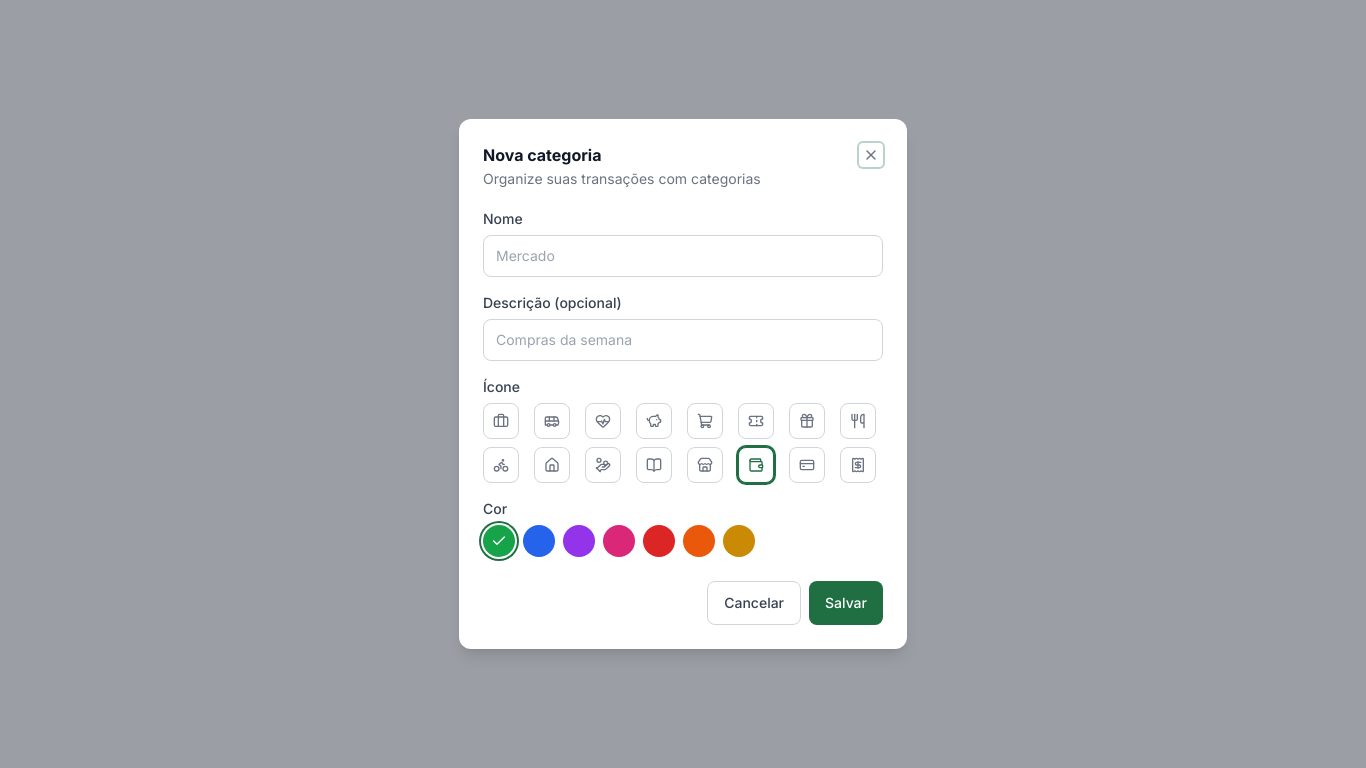
Test: CategoryDialog › creates a category and closes
Type "Transporte" into the field labelled "Nome" at (683, 256), box [483, 235, 883, 277]
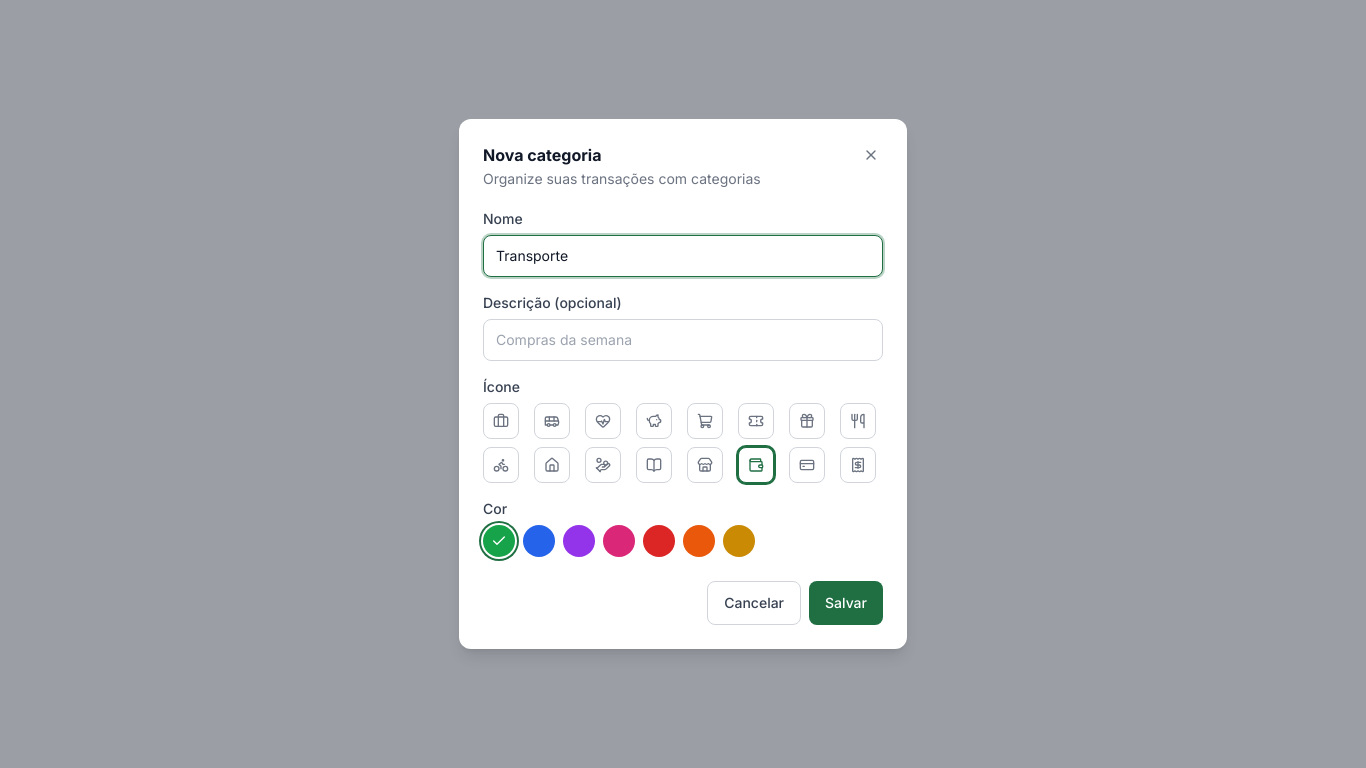
Click the radio button named "Ônibus" at (552, 421), box [534, 403, 570, 439]
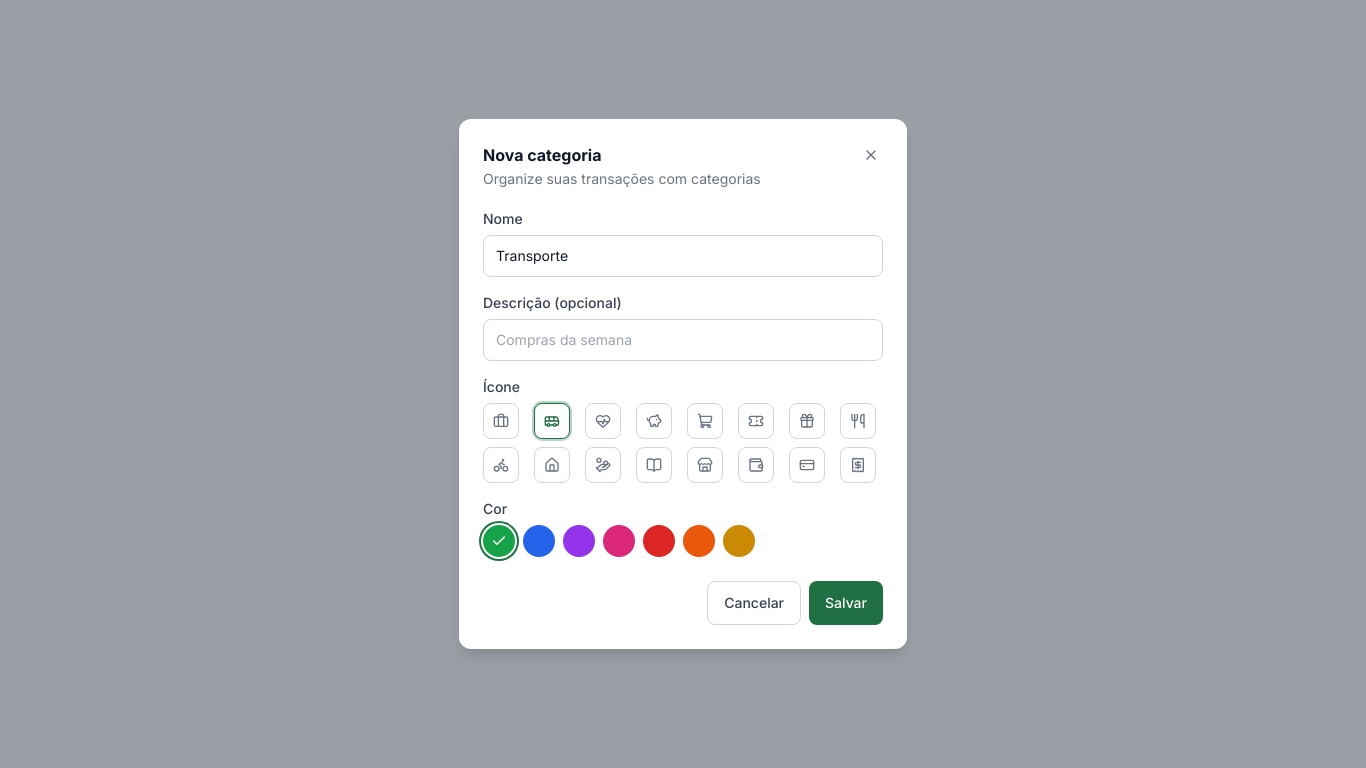
Click the button "Salvar" at (846, 603), box [809, 581, 883, 625]
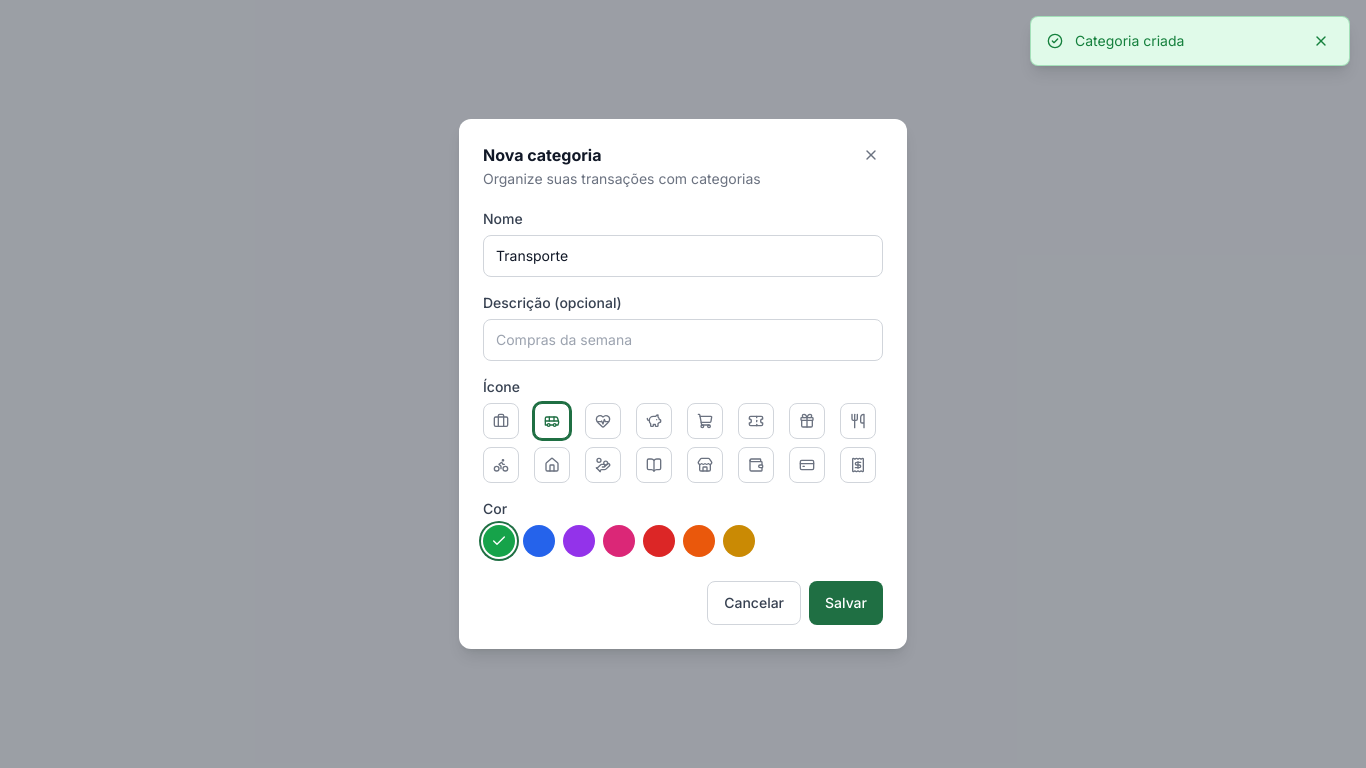
Expected: the text "Categoria criada" is shown, [1075, 31, 1184, 51]
